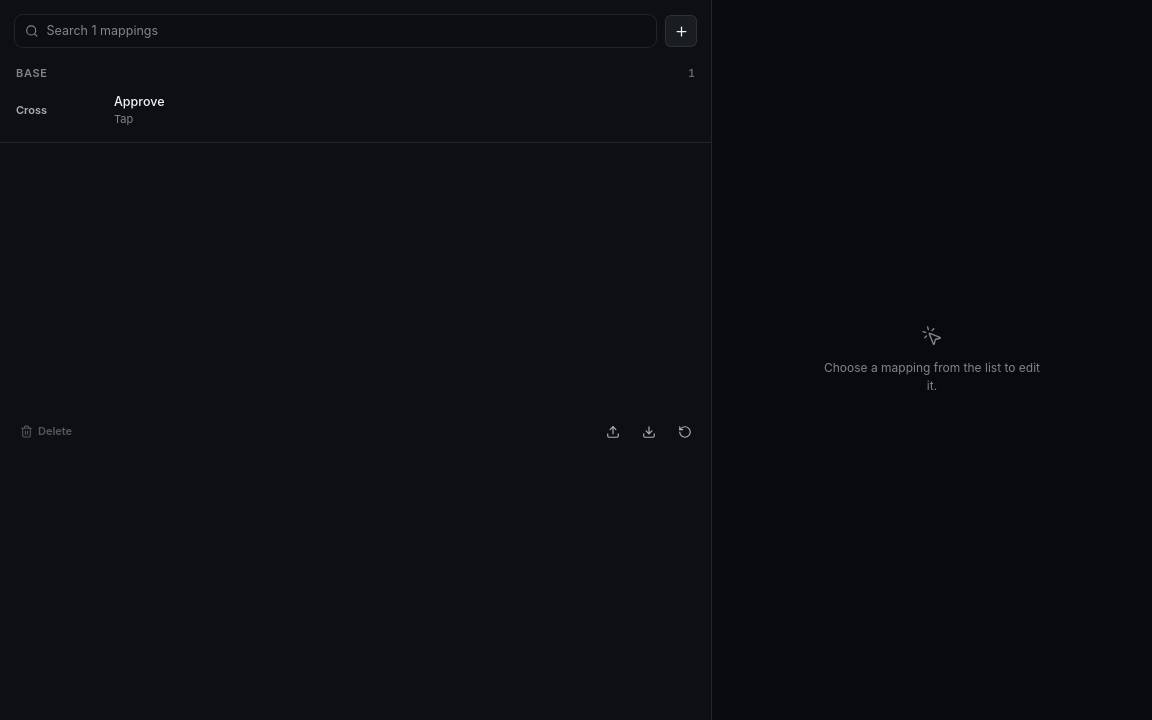
Test: resetting to defaults › names how much of the library goes
Click the button named "Reset mappings to defaults": (685, 432) [669, 416, 701, 448]
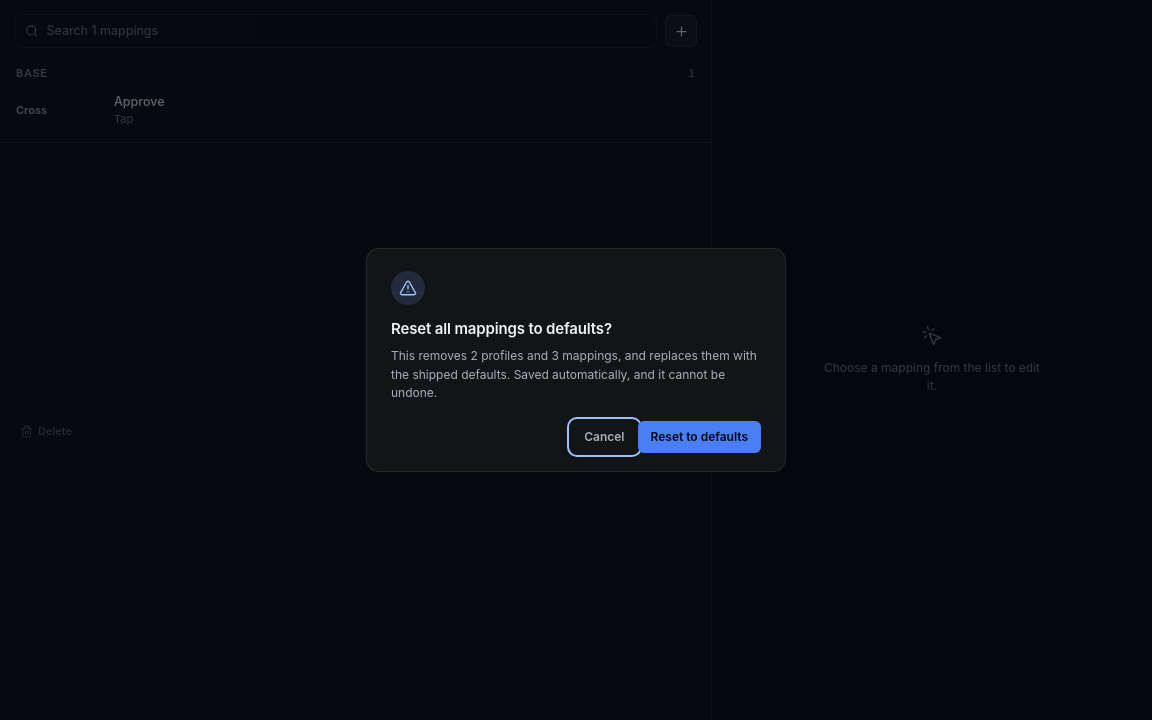
Expected: the text "This removes" shows "2 profiles", [391, 348, 757, 400]
Expected: the text "This removes" shows "3 mappings", [391, 348, 757, 400]
Expected: the text "This removes" shows "cannot be undone", [391, 348, 757, 400]
